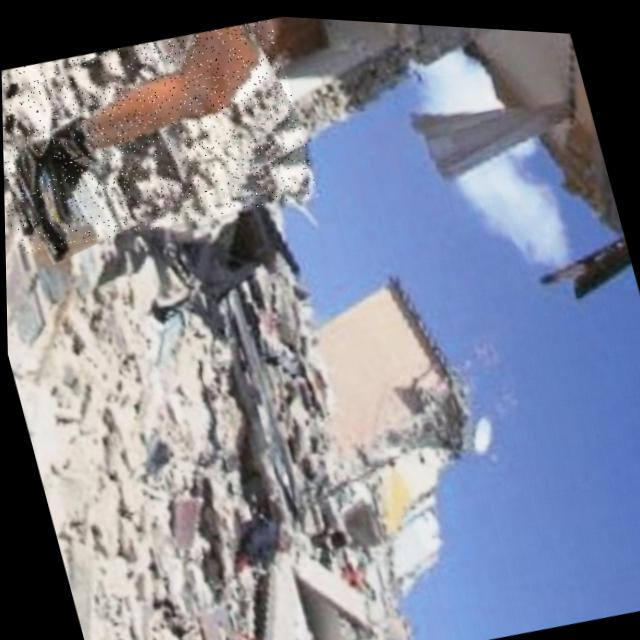Person in Rubble: (0, 2, 318, 268)
